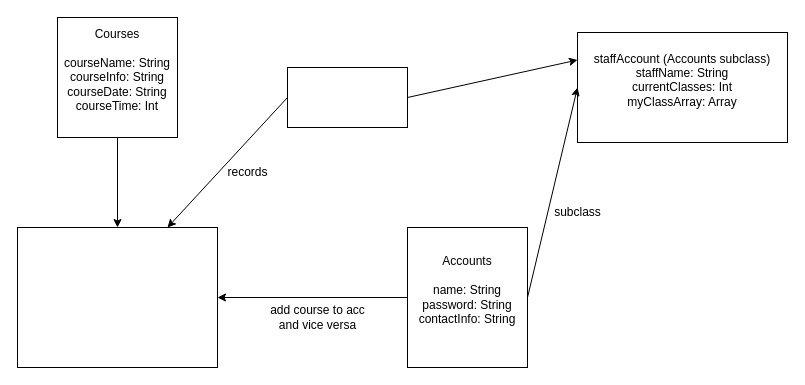
Image size: 805x385. Some labels were removed from this diagram. The shapes that lost their labels are listed below. From the top down, each one's centre as x and y in pixels, then its label:
pixel 347 97: Course Catalogue
pixel 117 297: Course object numberEnrolled: Int courseInstructor: String courseType: String
